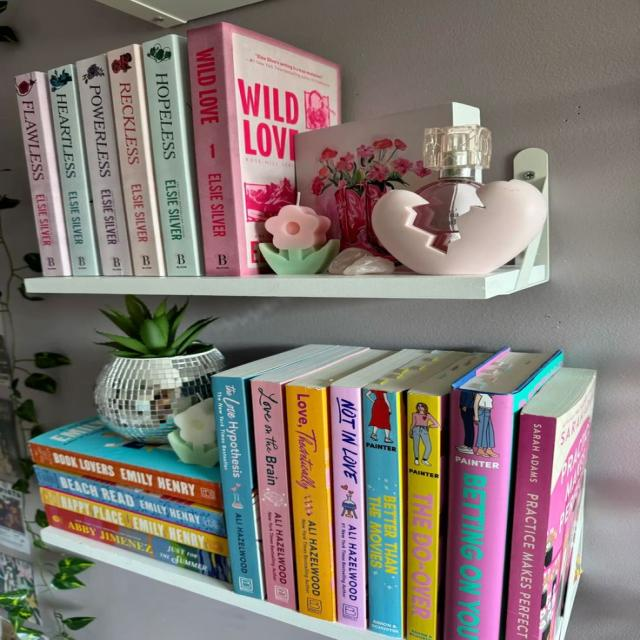book: (450, 386, 515, 639), (181, 23, 245, 276), (143, 35, 203, 275), (33, 464, 224, 536), (46, 506, 229, 581), (108, 44, 165, 275), (42, 488, 230, 557), (31, 442, 220, 508), (77, 55, 130, 275), (287, 385, 336, 619), (213, 377, 264, 601), (15, 72, 69, 275), (248, 380, 295, 610), (508, 413, 555, 640), (49, 64, 98, 275), (364, 389, 403, 636), (328, 385, 366, 627), (409, 392, 439, 640)
plants: (94, 296, 224, 444)
